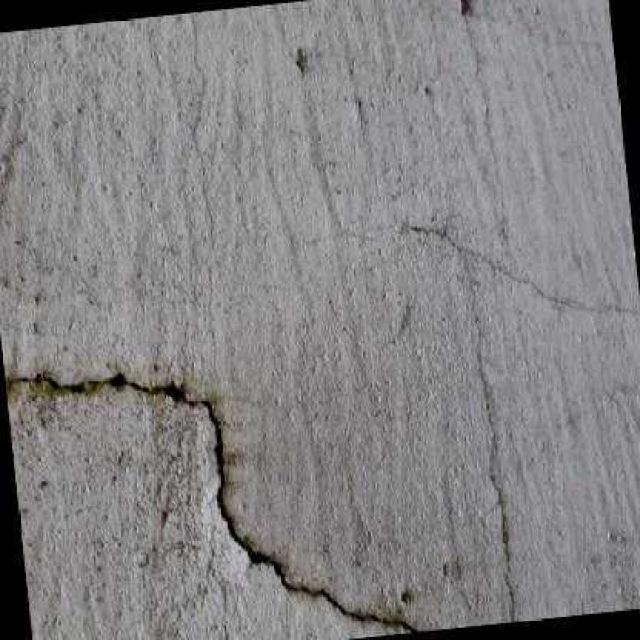D00: (5, 371, 422, 632)
